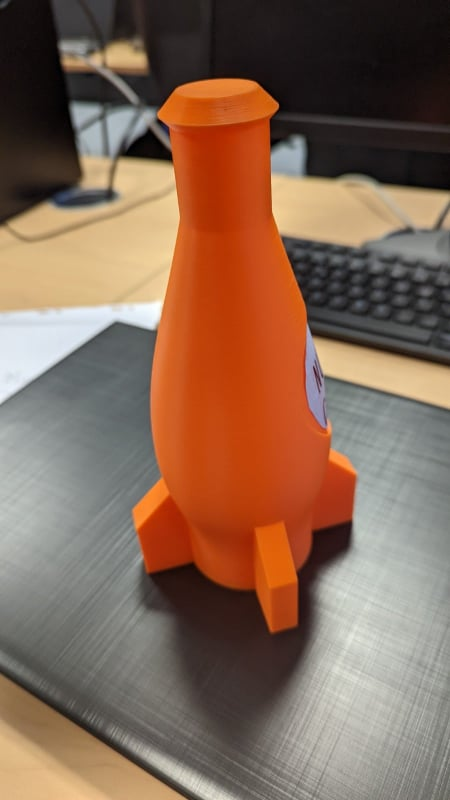bottle: (128, 75, 362, 637)
